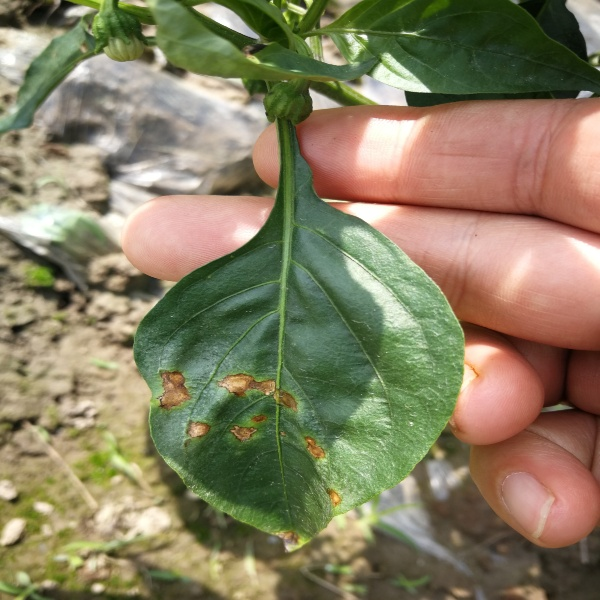Anthrax: (150, 362, 348, 552)
